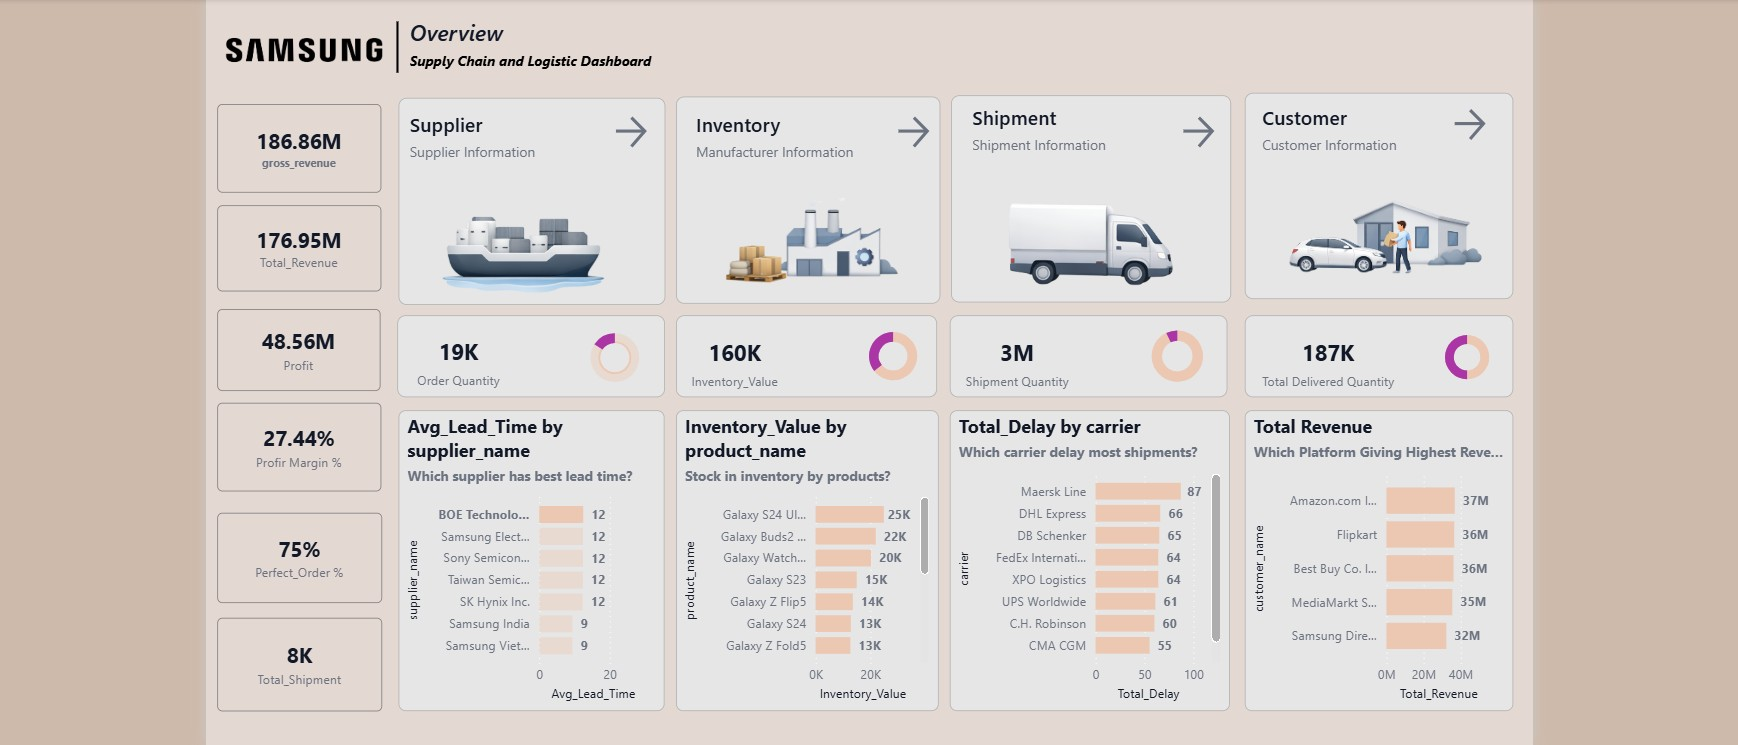

The page's visual inventory and layout, read from the dashboard file:
{"tool":"powerbi","page":{"name":"Supply Chain Dashboard","canvas":[1280,720],"ordinal":0},"visuals":[{"type":"shape","box":[186.2,95.8,258,200],"z":0},{"type":"shape","box":[453.8,94.4,255.2,200],"z":1000},{"type":"shape","box":[718.6,93,270.3,200],"z":2000},{"type":"shape","box":[1002,90.8,259.5,199],"z":3000},{"type":"image","box":[211.3,186.6,182.5,101.5],"z":4000},{"type":"image","box":[473.4,168.8,211.3,119.4],"z":5000},{"type":"image","box":[760.2,171.5,182.5,116.6],"z":6000},{"type":"image","box":[1037.4,171.5,211.3,111.1],"z":7000},{"type":"actionButton","box":[389.7,108.4,49.4,39.8],"z":8000},{"type":"actionButton","box":[662.8,108.4,43.9,39.8],"z":9000},{"type":"actionButton","box":[937.2,108.4,49.4,39.8],"z":10000},{"type":"actionButton","box":[1199.3,101.5,49.4,39.8],"z":11000},{"type":"shape","title":"Supplier","box":[196.2,108.4,161.9,56.3],"z":12000},{"type":"shape","title":"Inventory","box":[473.4,108.4,178.4,56.3],"z":13000},{"type":"shape","title":"Shipment","box":[739.6,101.5,161.9,56.3],"z":14000},{"type":"shape","title":"Customer","box":[1019.6,101.5,161.9,56.3],"z":15000},{"type":"shape","title":"Overview","box":[196.1,17.3,233.6,56.2],"z":16000},{"type":"shape","box":[157.8,22,53.5,49.4],"z":17000},{"type":"image","box":[7.2,4.8,167.7,88.1],"z":19000},{"type":"cardVisual","fields":{"Data":["Measure Table.Total_Revenue"]},"box":[10.9,199.1,158,83.2],"z":20000},{"type":"cardVisual","fields":{"Data":["Measure Table.Profit"]},"box":[11,299.1,157.8,79.6],"z":21000},{"type":"cardVisual","fields":{"Data":["Sum(fact_sales.gross_revenue)"]},"box":[10.9,101.3,158,85.7],"z":22000},{"type":"cardVisual","fields":{"Data":["Measure Table.Profir Margin %"]},"box":[10.9,389.7,158,85.7],"z":23000},{"type":"cardVisual","fields":{"Data":["Measure Table.Perfect_Order %"]},"box":[10.9,495.8,159.3,86.9],"z":24000},{"type":"cardVisual","fields":{"Data":["Measure Table.Total_Shipment"]},"box":[10.9,597.2,159.3,90.5],"z":25000},{"type":"shape","box":[184.5,305.7,258.1,79.3],"z":26000},{"type":"shape","box":[454.2,305.7,252.3,79.3],"z":27000},{"type":"shape","box":[718,305.7,268.2,79.3],"z":28000},{"type":"shape","box":[1002,305.7,259.5,79.3],"z":29000},{"type":"card","fields":{"Values":["Measure Table.Order_QTY"]},"box":[180.2,310,128.3,79.3],"z":30000},{"type":"card","fields":{"Values":["Measure Table.Inventory_Value"]},"box":[454.2,315.7,113.9,69.2],"z":31000},{"type":"card","fields":{"Values":["Measure Table.Total_Shipment_Quantity"]},"box":[726.7,315.7,113.9,69.2],"z":32000},{"type":"card","fields":{"Values":["Measure Table.Total_Delivered_Quantity"]},"box":[1002,315.7,161.5,69.2],"z":33000},{"type":"clusteredBarChart","fields":{"Y":["Measure Table.Avg_Lead_Time"],"Category":["dim_supplier.supplier_name"]},"box":[185.8,396.9,257,290.8],"z":34000},{"type":"clusteredBarChart","fields":{"Y":["Measure Table.Inventory_Value"],"Category":["dim_product.product_name"]},"box":[453.6,396.9,253.4,290.8],"z":35000},{"type":"clusteredBarChart","fields":{"Y":["Measure Table.Total_Delay"],"Category":["fact_shipment.carrier"]},"box":[717.8,396.9,270.2,290.8],"z":36000},{"type":"clusteredBarChart","title":"Total Revenue","fields":{"Y":["Measure Table.Total_Revenue"],"Category":["dim_customer.customer_name"]},"box":[1002.6,396.9,259.4,290.8],"z":37000},{"type":"donutChart","fields":{"Y":["Measure Table.Inventory_Value","Sum(fact_inventory.safety_stock_level)"]},"box":[620,305.7,86.5,79.3],"z":38000},{"type":"donutChart","fields":{"Y":["Measure Table.Total_Shipment","Measure Table.Total_Delay"]},"box":[888.1,305.7,99.5,79.3],"z":39000},{"type":"donutChart","fields":{"Y":["Measure Table.Total_Delivered_Quantity","Measure Table.Total_Sales_Quantity"]},"box":[1172.2,311.4,89.4,69.2],"z":40000},{"type":"donutChart","fields":{"Y":["Measure Table.Order_QTY","Measure Table.Defect_Rate"]},"box":[344.6,308.5,99.5,75],"z":41000}]}

Visuals, with their boxes on the page's 1280x720 design canvas (x1, y1, x2, y2). These are canvas units, not pixel positions in the 1738x745 screenshot, which may show the page scaled, cropped or inside an application window:
shape: 186:96:444:296
shape: 454:94:709:294
shape: 719:93:989:293
shape: 1002:91:1262:290
image: 211:187:394:288
image: 473:169:685:288
image: 760:172:943:288
image: 1037:172:1249:283
actionButton: 390:108:439:148
actionButton: 663:108:707:148
actionButton: 937:108:987:148
actionButton: 1199:102:1249:141
"Supplier" shape: 196:108:358:165
"Inventory" shape: 473:108:652:165
"Shipment" shape: 740:102:902:158
"Customer" shape: 1020:102:1182:158
"Overview" shape: 196:17:430:74
shape: 158:22:211:71
image: 7:5:175:93
cardVisual - Measure Table.Total_Revenue: 11:199:169:282
cardVisual - Measure Table.Profit: 11:299:169:379
cardVisual - Sum(fact_sales.gross_revenue): 11:101:169:187
cardVisual - Measure Table.Profir Margin %: 11:390:169:475
cardVisual - Measure Table.Perfect_Order %: 11:496:170:583
cardVisual - Measure Table.Total_Shipment: 11:597:170:688
shape: 184:306:443:385
shape: 454:306:706:385
shape: 718:306:986:385
shape: 1002:306:1262:385
card - Measure Table.Order_QTY: 180:310:308:389
card - Measure Table.Inventory_Value: 454:316:568:385
card - Measure Table.Total_Shipment_Quantity: 727:316:841:385
card - Measure Table.Total_Delivered_Quantity: 1002:316:1164:385
clusteredBarChart - Measure Table.Avg_Lead_Time x dim_supplier.supplier_name: 186:397:443:688
clusteredBarChart - Measure Table.Inventory_Value x dim_product.product_name: 454:397:707:688
clusteredBarChart - Measure Table.Total_Delay x fact_shipment.carrier: 718:397:988:688
"Total Revenue" clusteredBarChart: 1003:397:1262:688
donutChart - Measure Table.Inventory_Value x Sum(fact_inventory.safety_stock_level): 620:306:706:385
donutChart - Measure Table.Total_Shipment x Measure Table.Total_Delay: 888:306:988:385
donutChart - Measure Table.Total_Delivered_Quantity x Measure Table.Total_Sales_Quantity: 1172:311:1262:381
donutChart - Measure Table.Order_QTY x Measure Table.Defect_Rate: 345:308:444:384
